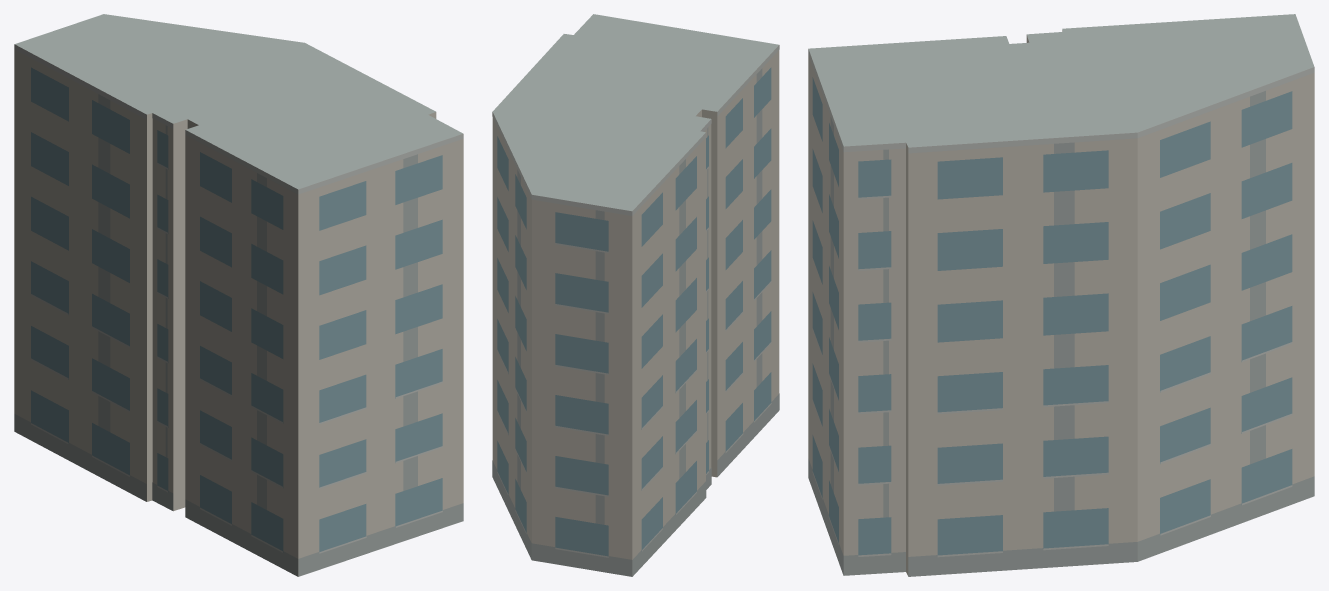
File: survey-upis-33009463.glb
3 renders of one model, left to right at view 1: azimuth 30°, elevation 25°; view 2: azimuth 150°, elevation 25°; view 3: azimuth 270°, elevation 25°, orthographic. The views are drawn at different scales.
Visible parts, largest first — view 1: survey-upis-33009463.tmp; view 2: survey-upis-33009463.tmp; view 3: survey-upis-33009463.tmp.
Boxes of the visible parts, left/top/right/bottom form: survey-upis-33009463.tmp: left=14, top=14, right=463, bottom=576; survey-upis-33009463.tmp: left=492, top=14, right=779, bottom=576; survey-upis-33009463.tmp: left=808, top=14, right=1314, bottom=576.
Size of the model in its own units: 12.23 by 18.3 by 19.57.
